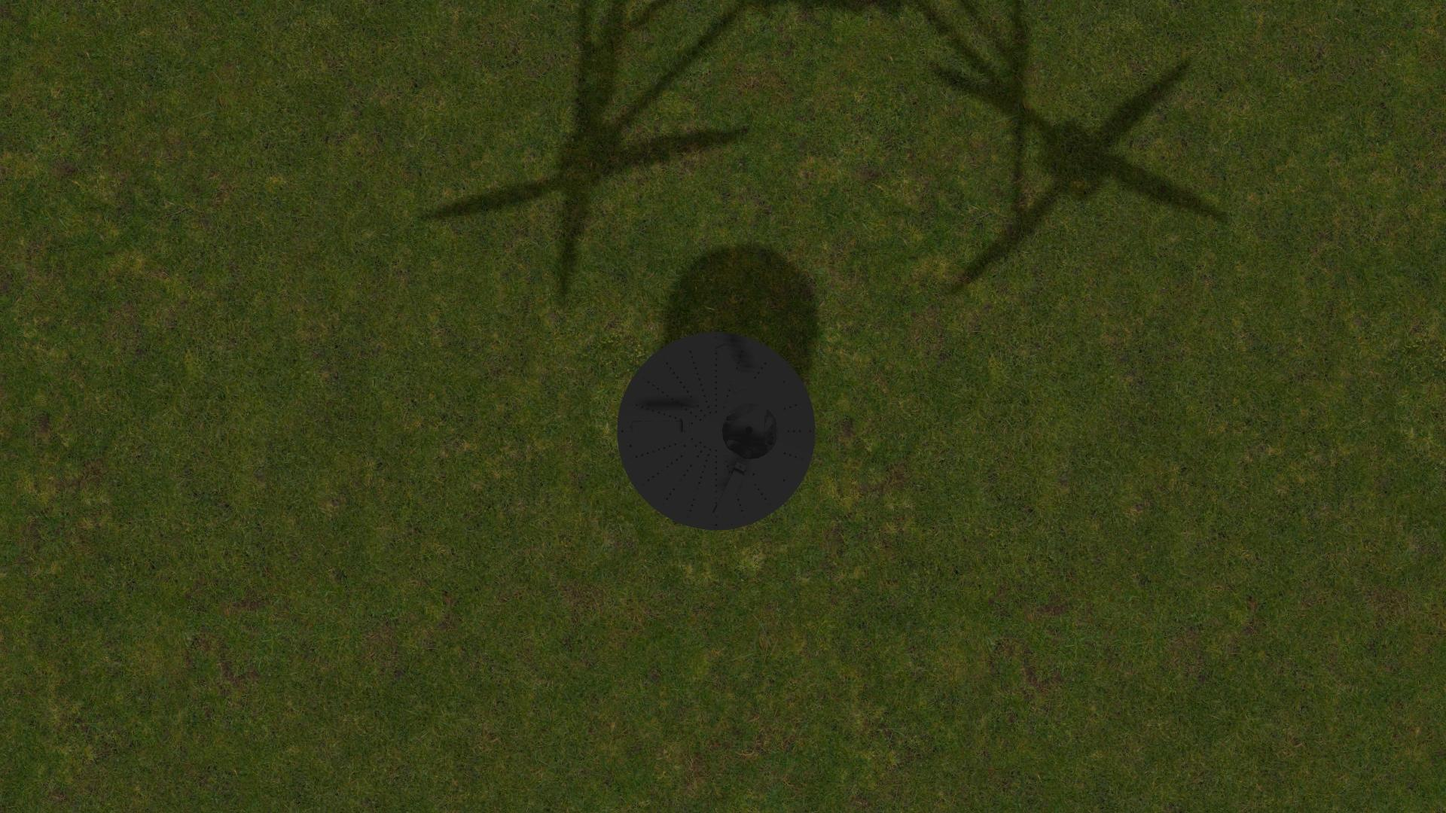alca: (710, 461, 747, 522), (713, 338, 748, 400), (628, 420, 689, 434)
armadilha: (617, 331, 816, 531)
